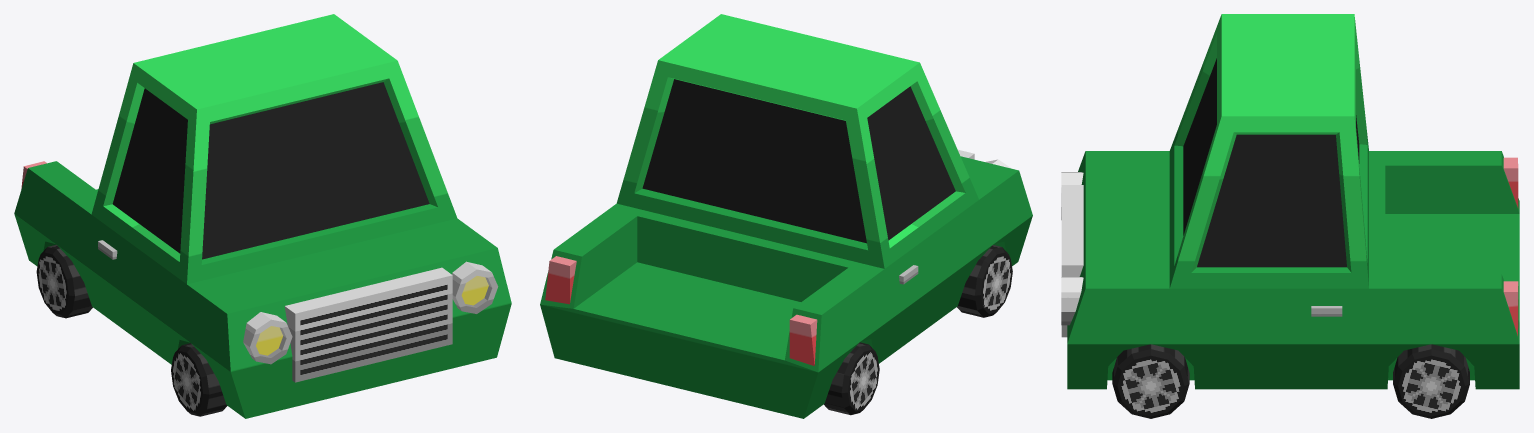
Rendered from Truck.fbx.
3 views of the same model, side by side, from view 1: azimuth 30°, elevation 25°; view 2: azimuth 150°, elevation 25°; view 3: azimuth 270°, elevation 25° (orthographic). The views are drawn at different scales.
Visible parts, largest first — view 1: TruckBody, Wheel_BL, Wheel_FL; view 2: TruckBody, Wheel_BL, Wheel_FL; view 3: TruckBody, Wheel_BR, Wheel_FR.
Boxes of the visible parts, x1,y1,x2,y2 form: TruckBody: (14, 14, 511, 418); Wheel_BL: (171, 343, 227, 416); Wheel_FL: (36, 244, 92, 318); TruckBody: (540, 14, 1032, 418); Wheel_BL: (957, 245, 1012, 317); Wheel_FL: (824, 342, 879, 415); TruckBody: (1061, 14, 1519, 389); Wheel_BR: (1112, 344, 1189, 418); Wheel_FR: (1393, 344, 1469, 418).
Size of the model in its own units: 85.5 by 76.62 by 113.
